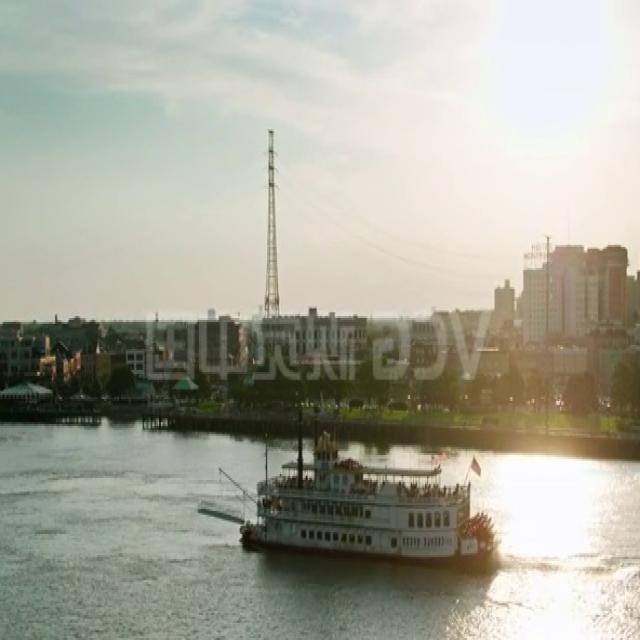passenger ship: (220, 420, 501, 561)
